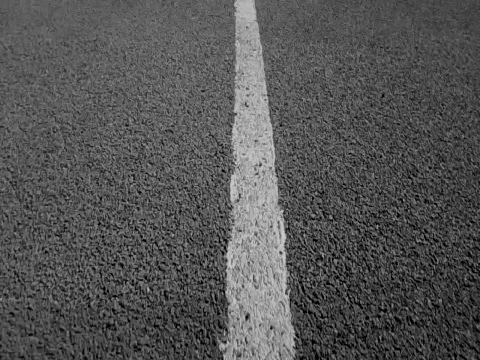Lines: (223, 0, 296, 360)
